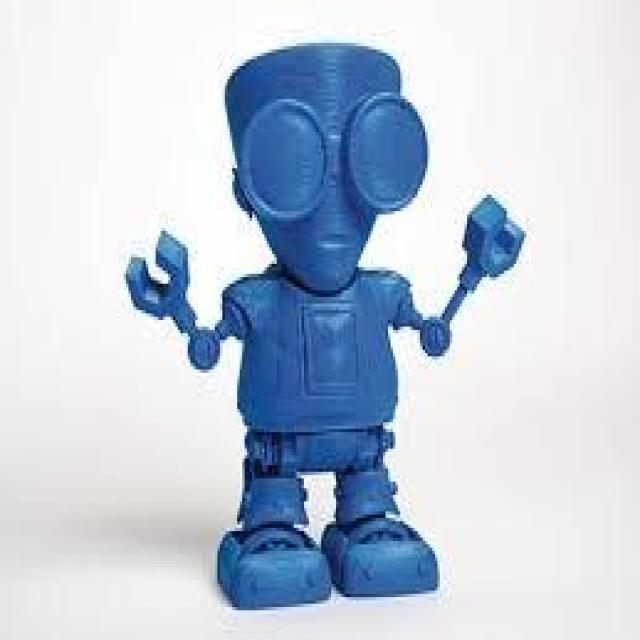Without deffect: (98, 39, 550, 618)
